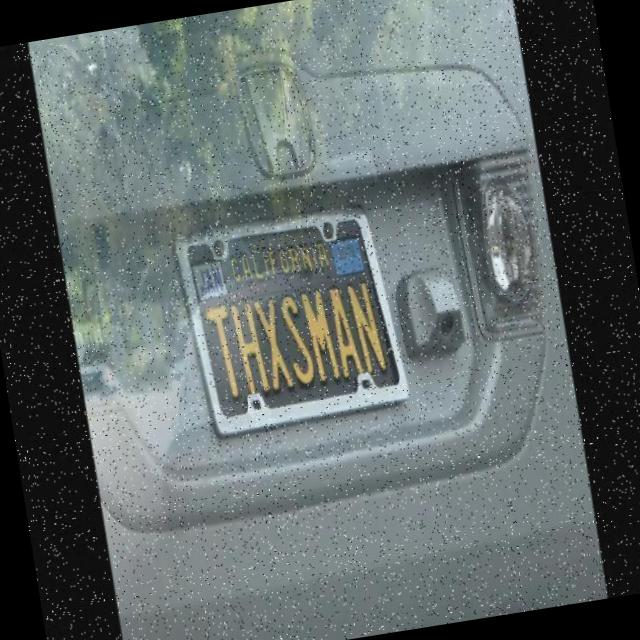LicensePlate: (162, 183, 422, 457)
